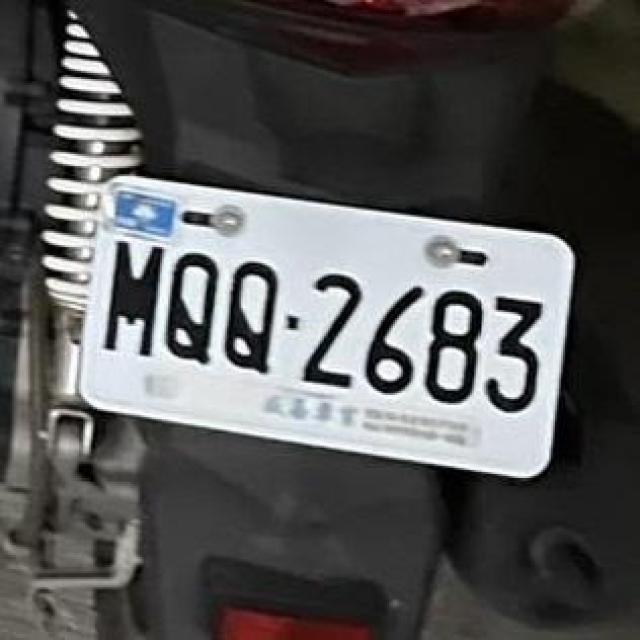W: (77, 172, 577, 479)
